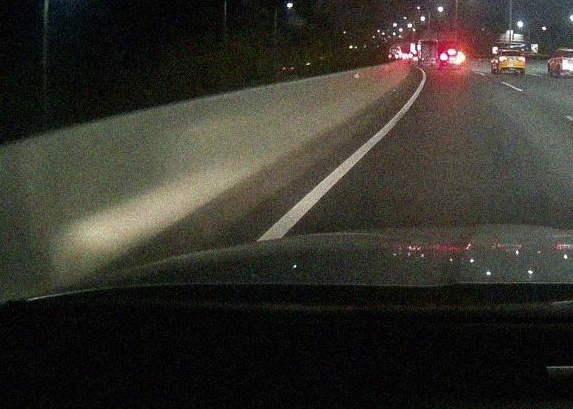L_light: (499, 57, 506, 61), (442, 55, 447, 58)
R_light: (518, 57, 524, 61), (458, 55, 463, 59)
T_light: (449, 52, 455, 54), (508, 51, 514, 53)
night-no: (499, 50, 525, 74)
night-right: (441, 51, 463, 69)
